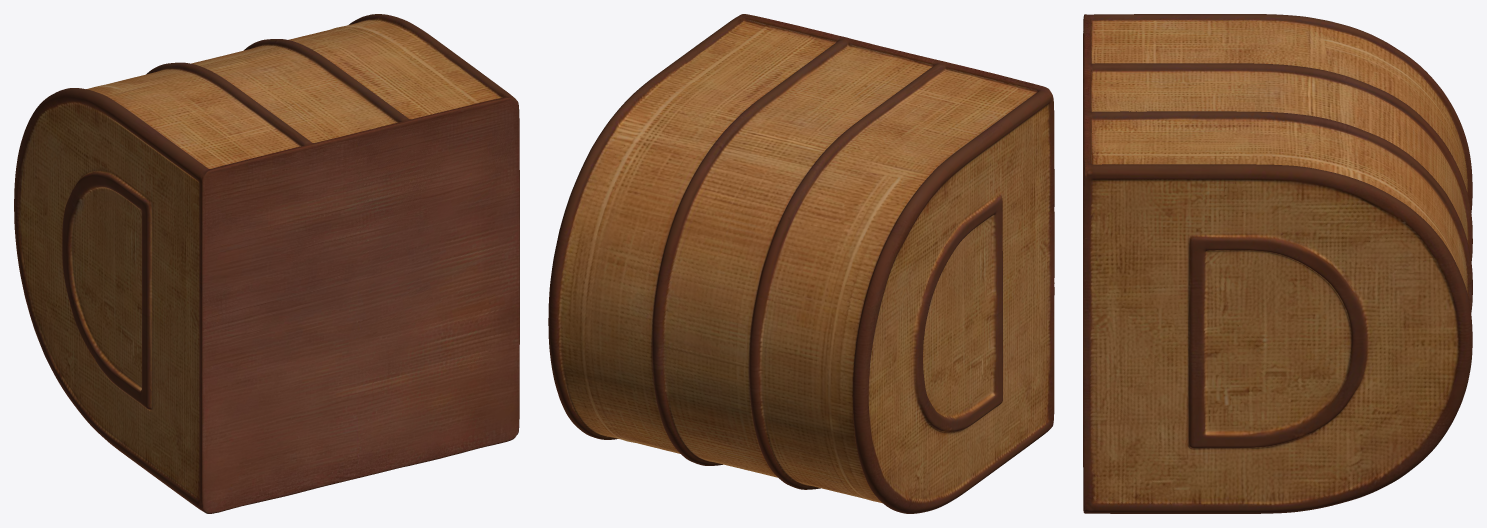
File: d-rug.glb
3 views of the same model, side by side, from view 1: azimuth 30°, elevation 25°; view 2: azimuth 150°, elevation 25°; view 3: azimuth 270°, elevation 25° (orthographic).
Parts seen in each view (by area): view 1: tripo_node_a2398810-d032-4cd8-875d-a8e0f24699c7; view 2: tripo_node_a2398810-d032-4cd8-875d-a8e0f24699c7; view 3: tripo_node_a2398810-d032-4cd8-875d-a8e0f24699c7.
Part boxes in pixels (x1=…): tripo_node_a2398810-d032-4cd8-875d-a8e0f24699c7: x1=14, y1=14, x2=519, y2=513; tripo_node_a2398810-d032-4cd8-875d-a8e0f24699c7: x1=548, y1=14, x2=1054, y2=513; tripo_node_a2398810-d032-4cd8-875d-a8e0f24699c7: x1=1083, y1=14, x2=1472, y2=513.
Bounding box in the file's own units: 0.9206 × 0.9459 × 0.9504.
1 material, 1 textured.
